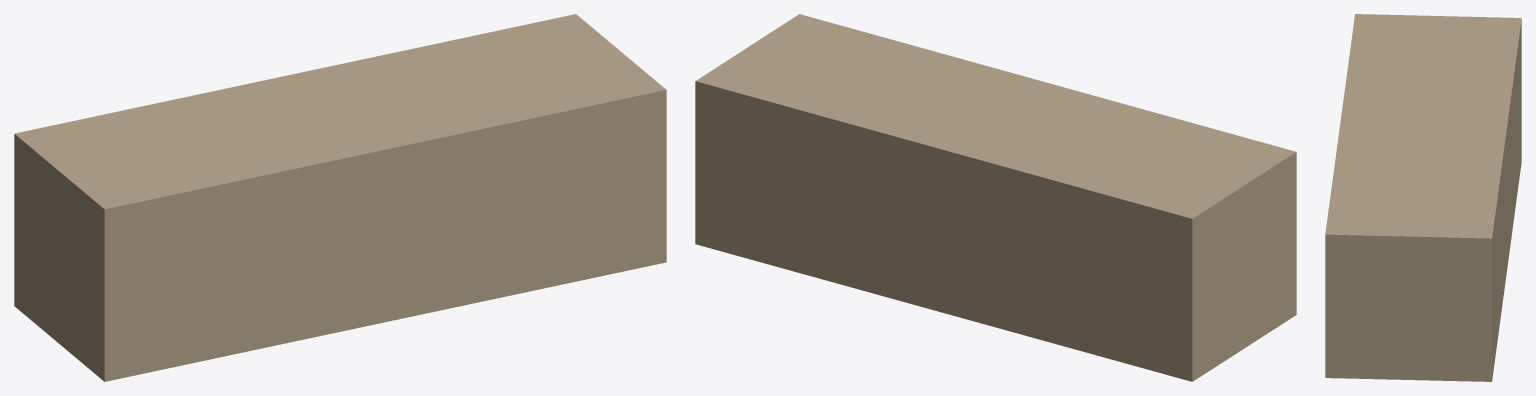
The model's file is bld_106466822.dae.
The picture shows the model from 3 angles, left to right: view 1: azimuth 30°, elevation 25°; view 2: azimuth 150°, elevation 25°; view 3: azimuth 270°, elevation 25°; orthographic projection. The views are drawn at different scales.
Parts seen in each view (by area): view 1: Quadrant Equipment; view 2: Quadrant Equipment; view 3: Quadrant Equipment.
Boxes of the visible parts, left/top/right/bottom form: Quadrant Equipment: left=14, top=14, right=666, bottom=381; Quadrant Equipment: left=695, top=14, right=1296, bottom=381; Quadrant Equipment: left=1325, top=14, right=1521, bottom=381.
Size of the model in its own units: 26.87 by 9.94 by 8.
